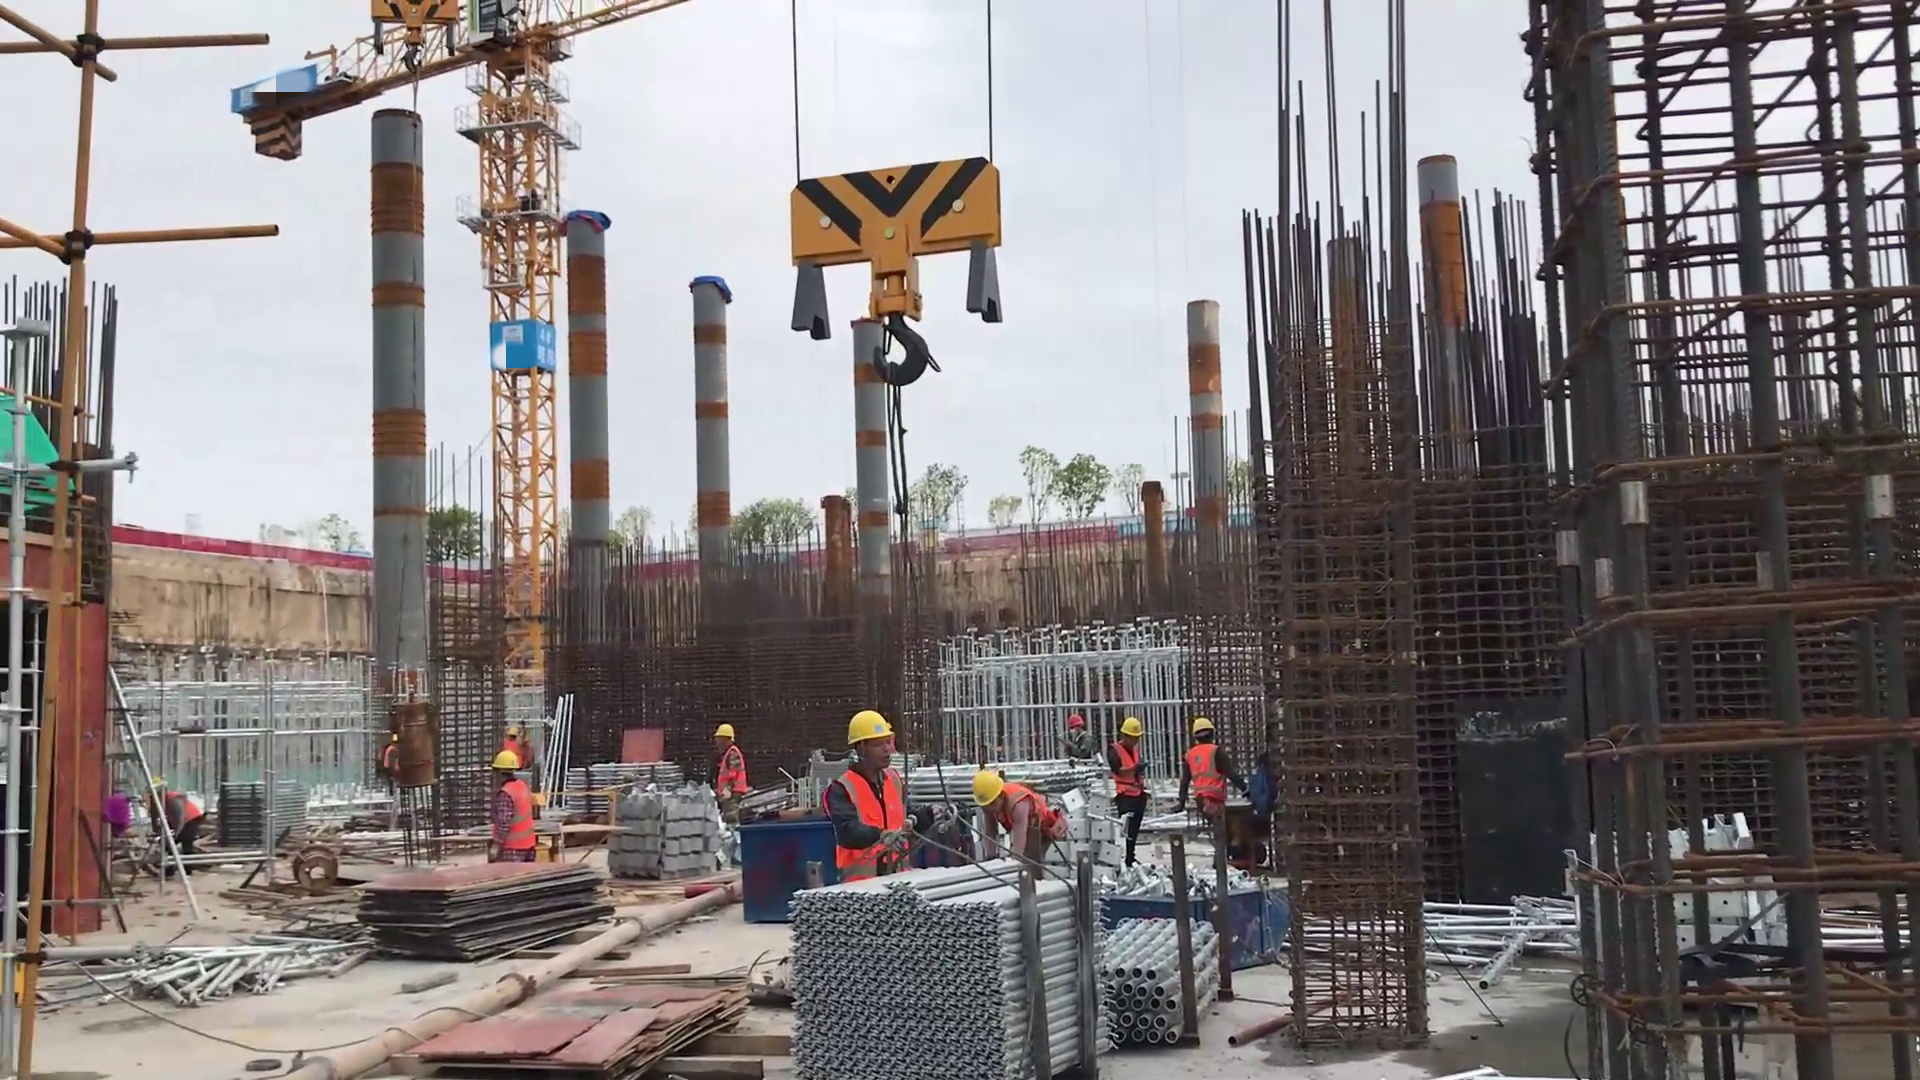board: (404, 962, 740, 1072), (344, 851, 608, 973)
helmet: (836, 701, 897, 750), (966, 758, 1008, 816), (477, 739, 527, 777), (1179, 697, 1215, 743), (1119, 710, 1159, 745), (712, 712, 739, 749)
hook: (782, 141, 1015, 391), (362, 1, 463, 83)
hopper: (1111, 858, 1313, 976)
person: (827, 712, 929, 887), (1178, 716, 1252, 847), (977, 765, 1055, 865), (481, 747, 544, 860), (1101, 716, 1144, 862), (712, 720, 747, 815)
scaffold: (774, 853, 1143, 1080), (1069, 861, 1220, 1038)
vest: (835, 760, 908, 876), (490, 780, 554, 851), (1173, 735, 1232, 807), (993, 785, 1062, 834), (708, 749, 754, 804), (1102, 735, 1139, 792)
